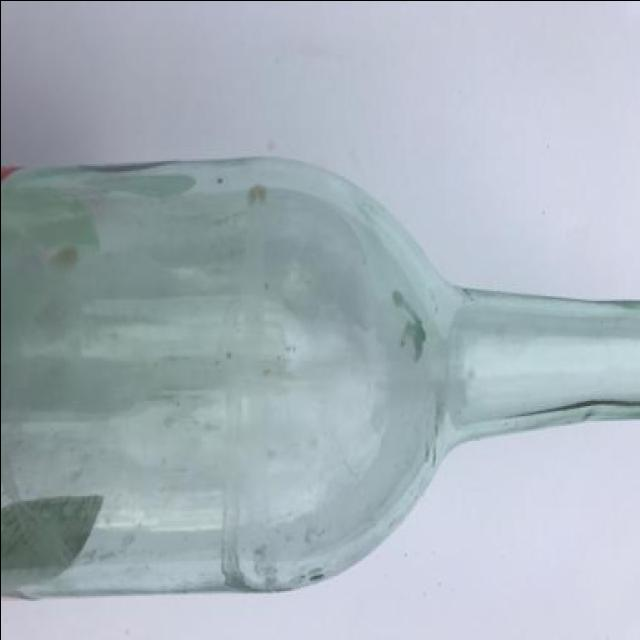glass: (0, 126, 638, 608)
